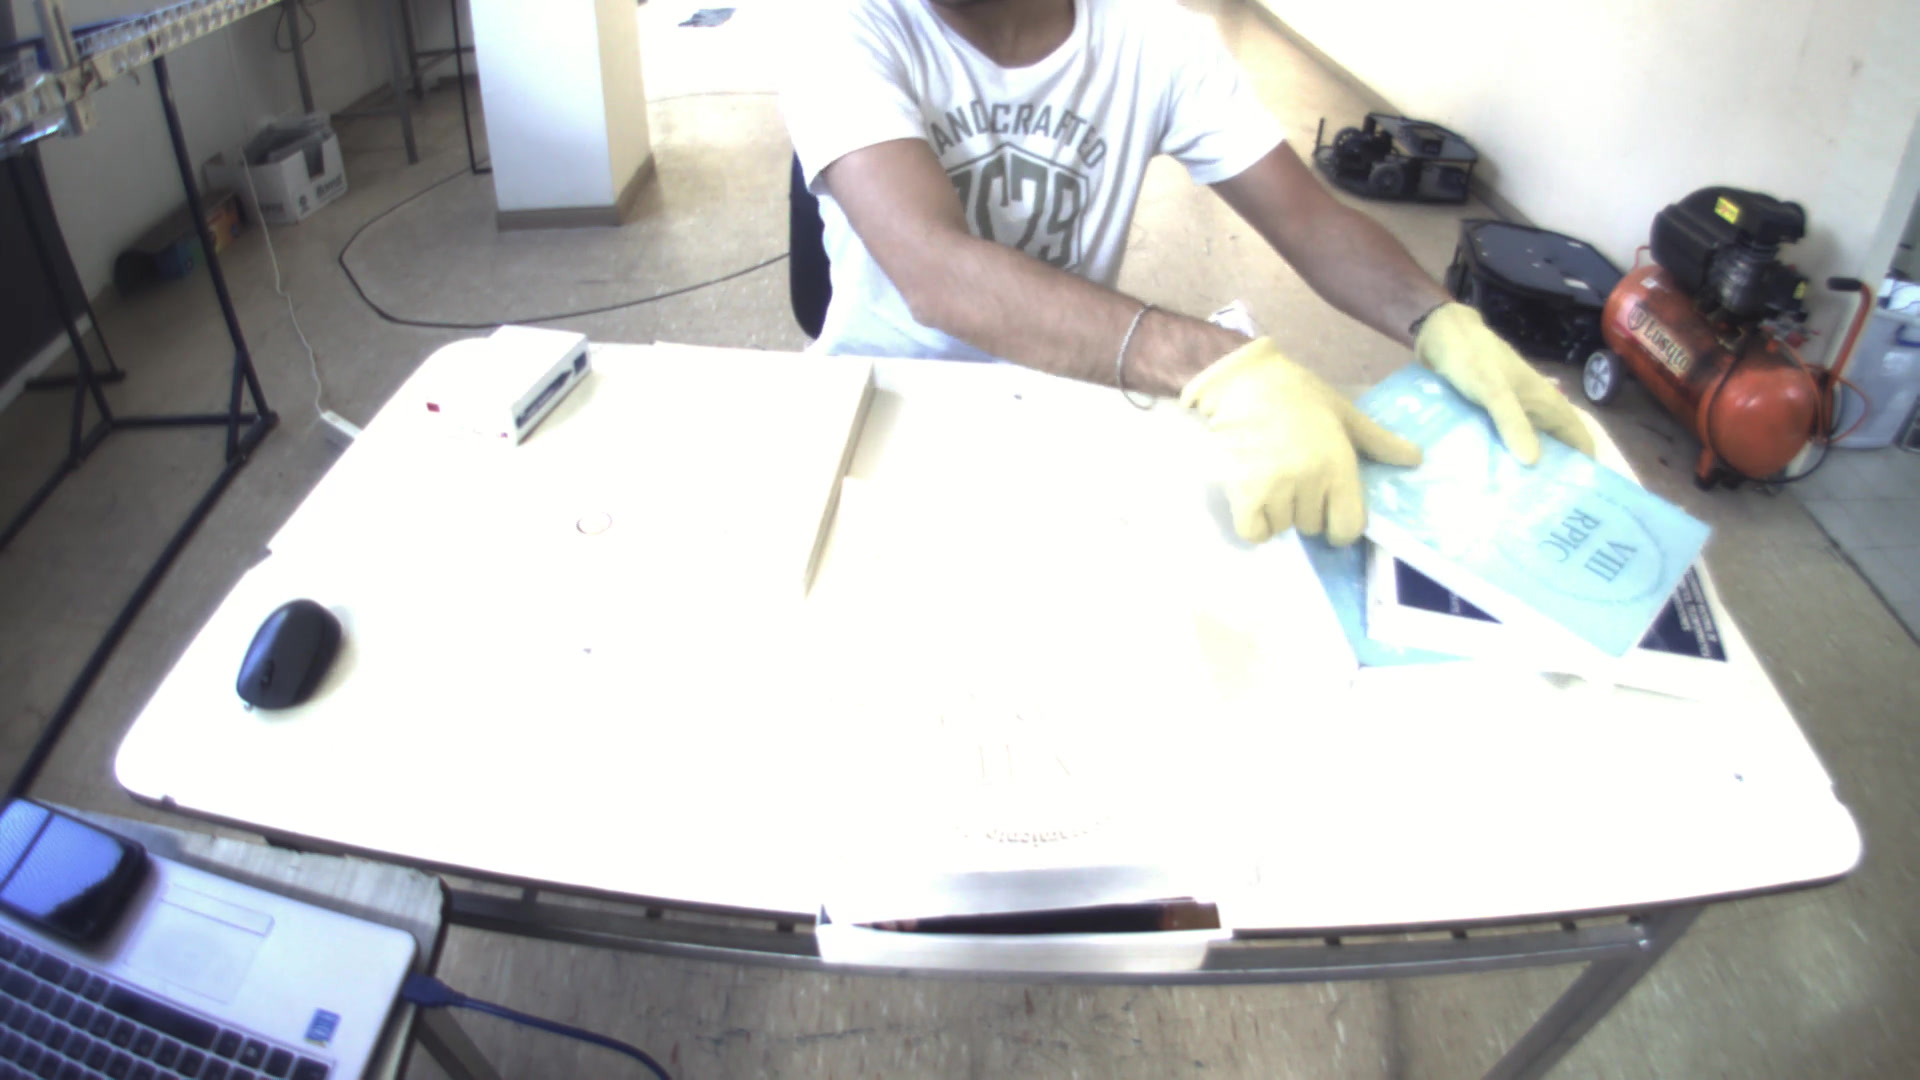hand: (1174, 328, 1437, 553), (1414, 291, 1613, 460)
